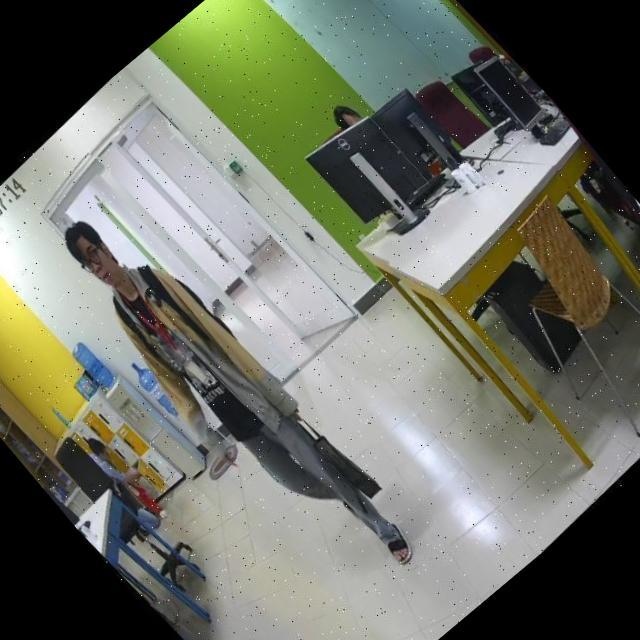person: (29, 177, 438, 630)
